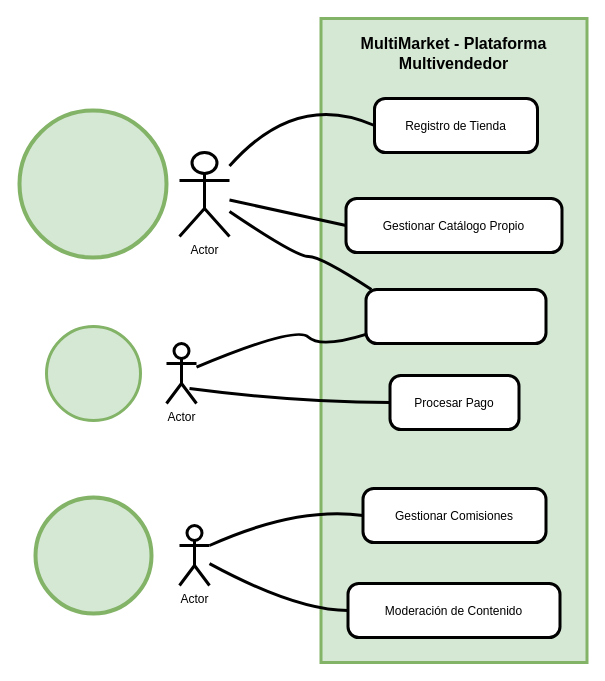
This 605x681 diagram has some shape labels left out. The centre of each missing label's shape, as x and y in pixels:
"Administrador" belongs at point 93,555.
"Buscar Obras de Arte" belongs at point 455,316.
"Comprador" belongs at point 93,373.
"Vendedor / Artista" belongs at point 92,183.
